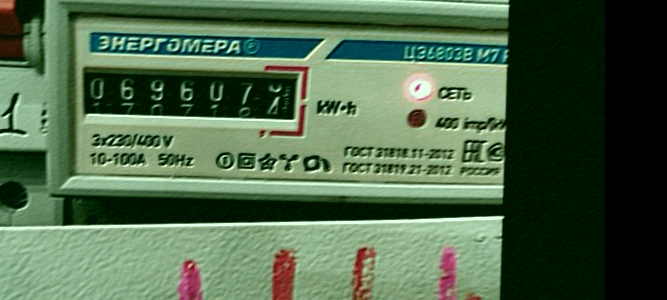0: (90, 74, 108, 98), (210, 75, 226, 101)
4: (267, 92, 283, 116)
6: (180, 75, 198, 100), (120, 75, 138, 99)
7: (240, 78, 256, 105)
9: (150, 75, 167, 100)
screen: (70, 51, 314, 132)
